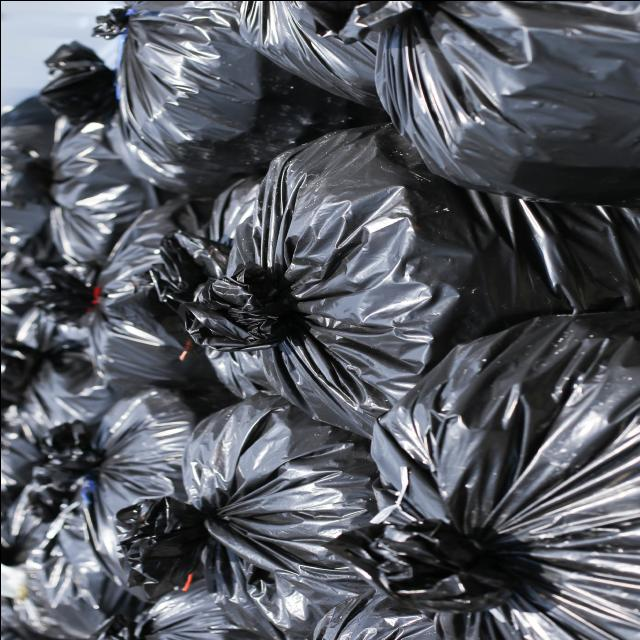plastik: (180, 124, 640, 436), (332, 311, 640, 640), (0, 107, 258, 495), (303, 0, 640, 206), (117, 392, 376, 640), (93, 0, 385, 195), (0, 391, 195, 640), (239, 0, 382, 108), (96, 397, 191, 544)
